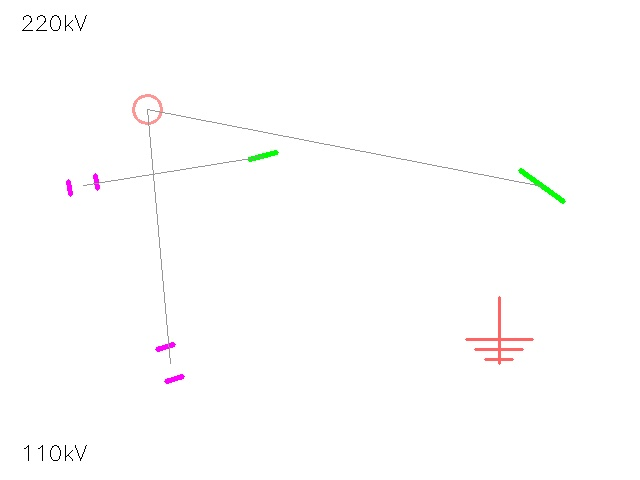busbar: (509, 153, 575, 219), (246, 139, 280, 173)
capacitor: (142, 335, 198, 391), (60, 162, 106, 208)
ground: (466, 297, 532, 363)
load_break_switch: (119, 81, 175, 137)
